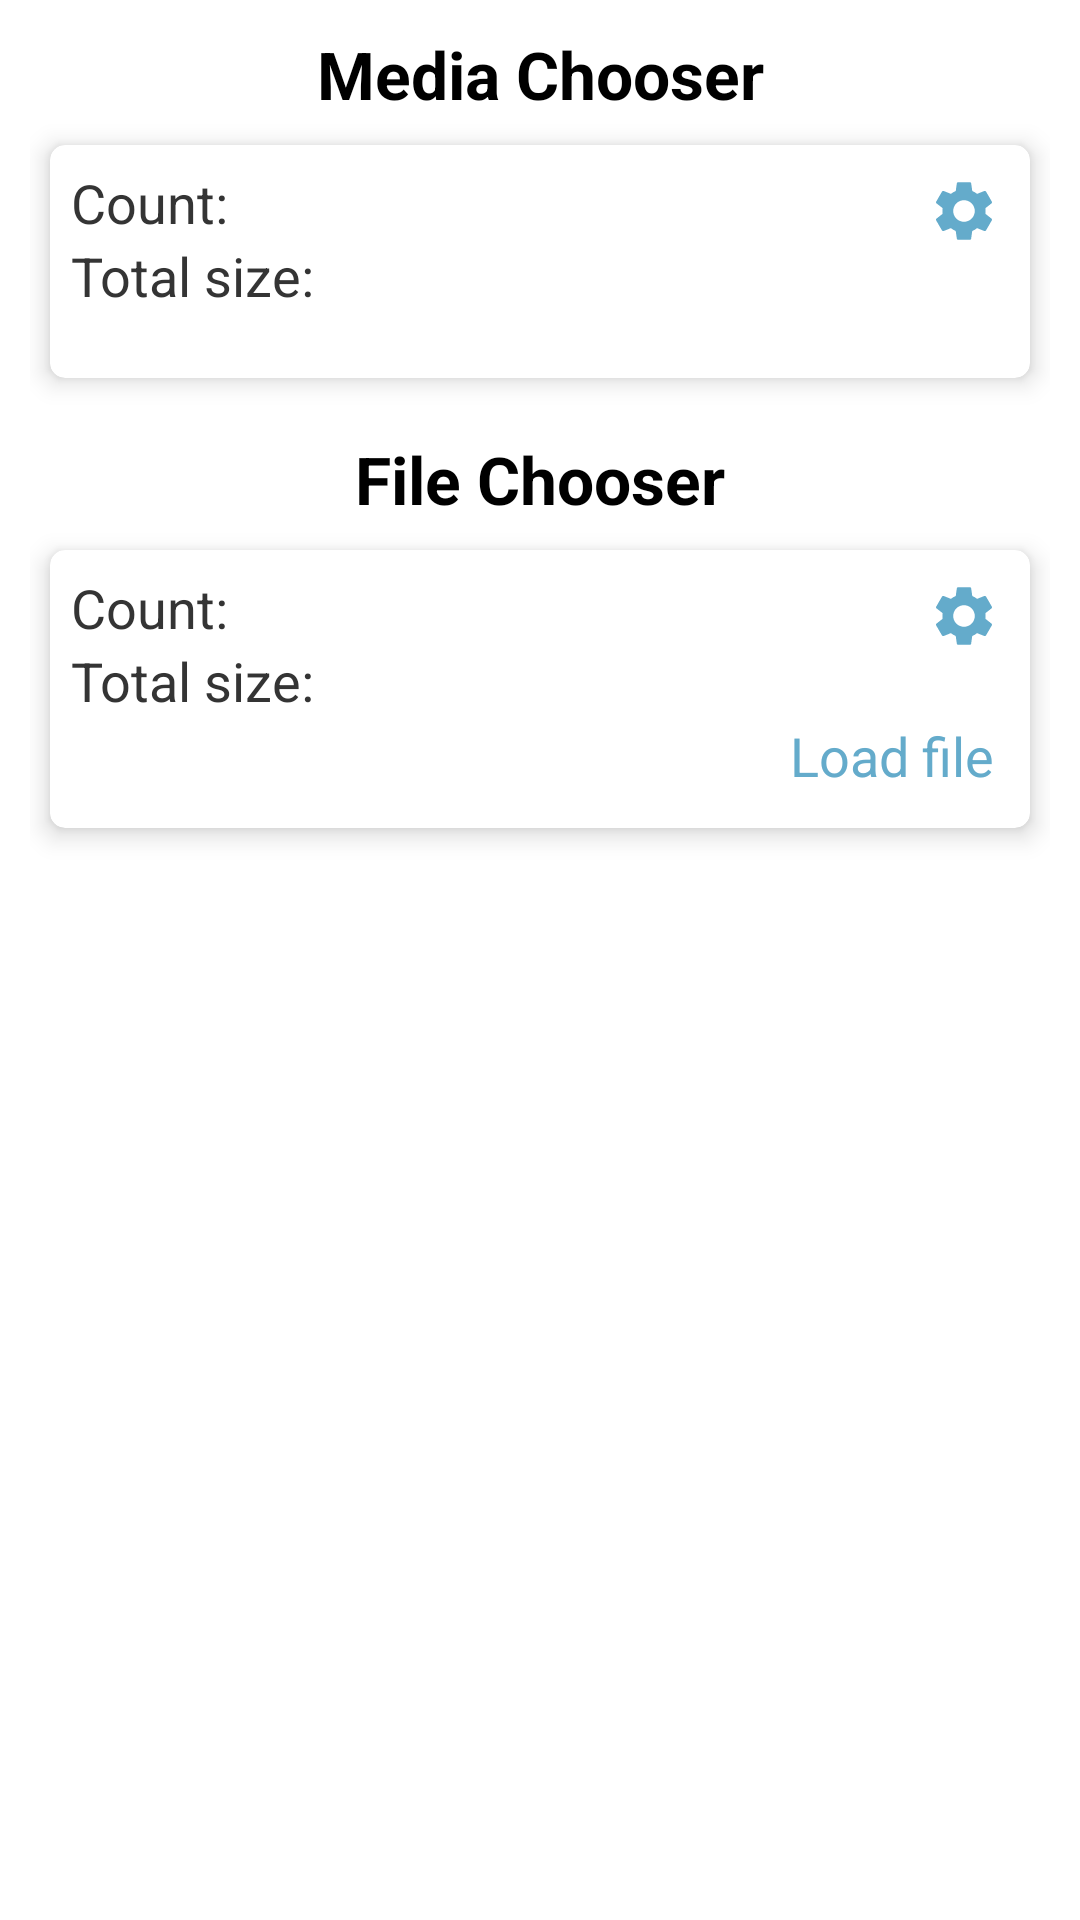

Icons on this 1080px×1920px Android screen, each with its box as (x1, y1, x2, y2):
settings: (936, 182, 992, 240), (936, 587, 992, 645)
